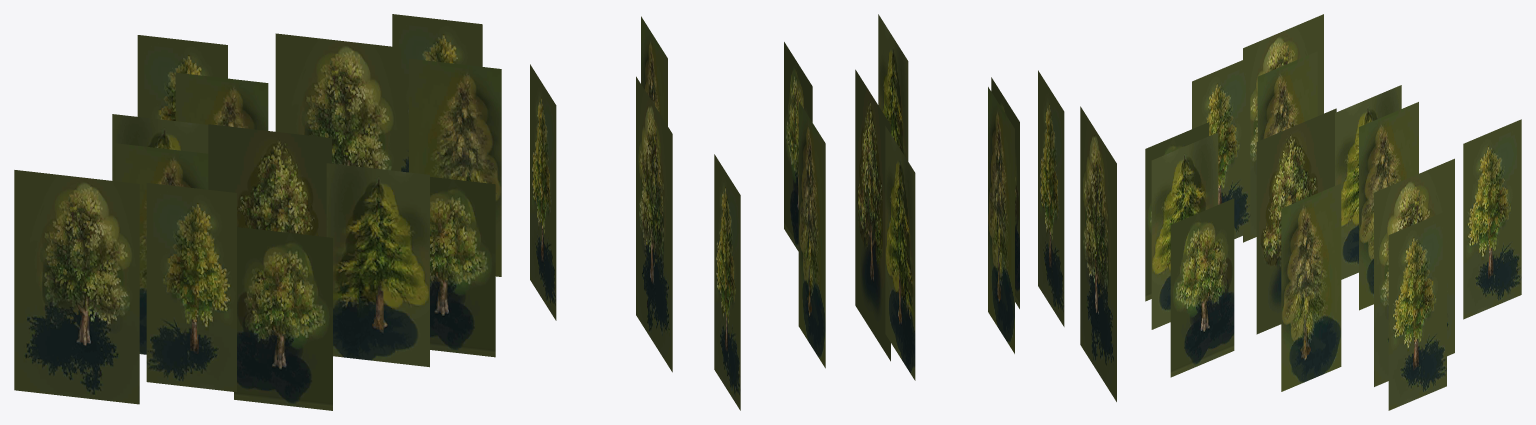
File: T_GroundPlate_02.fbx
3 views of the same model, side by side, from view 1: azimuth 30°, elevation 25°; view 2: azimuth 150°, elevation 25°; view 3: azimuth 270°, elevation 25° (orthographic). The views are drawn at different scales.
Visible parts, largest first — view 1: T_Common_Tree_02 (1), T_Common_Tree_06 (1), T_Common_Tree_03 (2), T_Common_Tree_01, T_Common_Tree_02, T_Common_Tree_01 (1), T_Common_Tree_05 (1), T_Common_Tree_04, T_Common_Tree_03 (1), T_Common_Tree_05, T_Common_Tree_03, T_Common_Tree_05 (2) (+1 smaller); view 2: T_Common_Tree_02, T_Common_Tree_02 (1), T_Common_Tree_04, T_Common_Tree_06, T_Common_Tree_05 (2), T_Common_Tree_05, T_Common_Tree_03, T_Common_Tree_03 (1), T_Common_Tree_03 (2), T_Common_Tree_01 (1), T_Common_Tree_06 (1), T_Common_Tree_05 (1) (+1 smaller); view 3: T_Common_Tree_05 (1), T_Common_Tree_03, T_Common_Tree_03 (1), T_Common_Tree_01 (1), T_Common_Tree_04, T_Common_Tree_02, T_Common_Tree_06 (1), T_Common_Tree_03 (2), T_Common_Tree_05 (2), T_Common_Tree_06, T_Common_Tree_02 (1), T_Common_Tree_05 (+1 smaller).
Part boxes in pixels (bbox=[...]): T_Common_Tree_02 (1): bbox=[14, 170, 139, 404]; T_Common_Tree_06 (1): bbox=[326, 163, 429, 367]; T_Common_Tree_03 (2): bbox=[146, 183, 236, 392]; T_Common_Tree_01: bbox=[234, 227, 332, 410]; T_Common_Tree_02: bbox=[275, 33, 401, 171]; T_Common_Tree_01 (1): bbox=[430, 177, 495, 357]; T_Common_Tree_05 (1): bbox=[409, 58, 501, 276]; T_Common_Tree_04: bbox=[208, 124, 331, 236]; T_Common_Tree_03 (1): bbox=[137, 35, 227, 120]; T_Common_Tree_05: bbox=[115, 143, 208, 354]; T_Common_Tree_03: bbox=[392, 14, 482, 172]; T_Common_Tree_05 (2): bbox=[175, 72, 268, 130]; T_Common_Tree_02: bbox=[636, 76, 672, 372]; T_Common_Tree_02 (1): bbox=[1080, 106, 1116, 401]; T_Common_Tree_04: bbox=[855, 69, 890, 361]; T_Common_Tree_06: bbox=[885, 126, 915, 380]; T_Common_Tree_05 (2): bbox=[798, 101, 825, 368]; T_Common_Tree_05: bbox=[988, 87, 1014, 353]; T_Common_Tree_03: bbox=[530, 64, 556, 320]; T_Common_Tree_03 (1): bbox=[714, 154, 740, 410]; T_Common_Tree_03 (2): bbox=[1038, 70, 1064, 326]; T_Common_Tree_01 (1): bbox=[784, 42, 812, 251]; T_Common_Tree_06 (1): bbox=[878, 14, 908, 161]; T_Common_Tree_05 (1): bbox=[641, 16, 667, 125]; T_Common_Tree_05 (1): bbox=[1281, 183, 1341, 391]; T_Common_Tree_03: bbox=[1388, 210, 1446, 410]; T_Common_Tree_03 (1): bbox=[1463, 119, 1521, 319]; T_Common_Tree_01 (1): bbox=[1170, 198, 1234, 377]; T_Common_Tree_04: bbox=[1256, 108, 1336, 334]; T_Common_Tree_02: bbox=[1374, 158, 1454, 386]; T_Common_Tree_06 (1): bbox=[1151, 132, 1218, 329]; T_Common_Tree_03 (2): bbox=[1192, 57, 1250, 238]; T_Common_Tree_05 (2): bbox=[1359, 102, 1418, 310]; T_Common_Tree_06: bbox=[1335, 85, 1401, 279]; T_Common_Tree_02 (1): bbox=[1243, 14, 1323, 242]; T_Common_Tree_05: bbox=[1257, 51, 1317, 141].
Bounding box in the file's own units: 19.83 × 8.72 × 14.51.
1 material, 1 textured.
